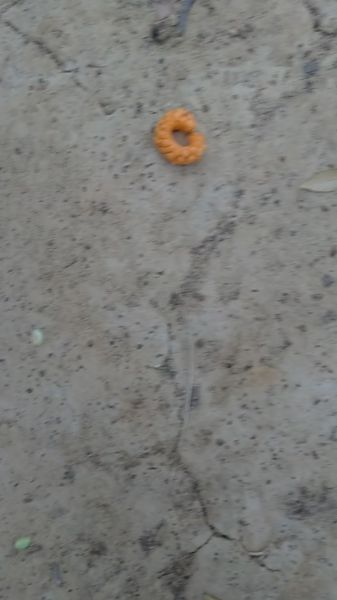eggs: (149, 101, 208, 169)
